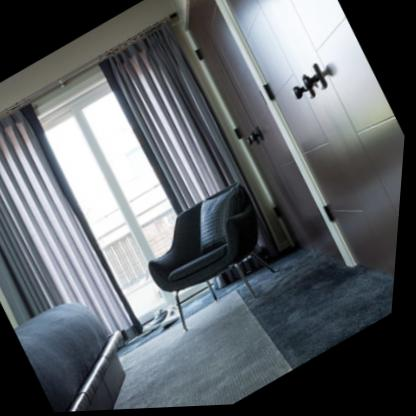Curtains: (0, 105, 147, 335), (100, 25, 247, 217)
